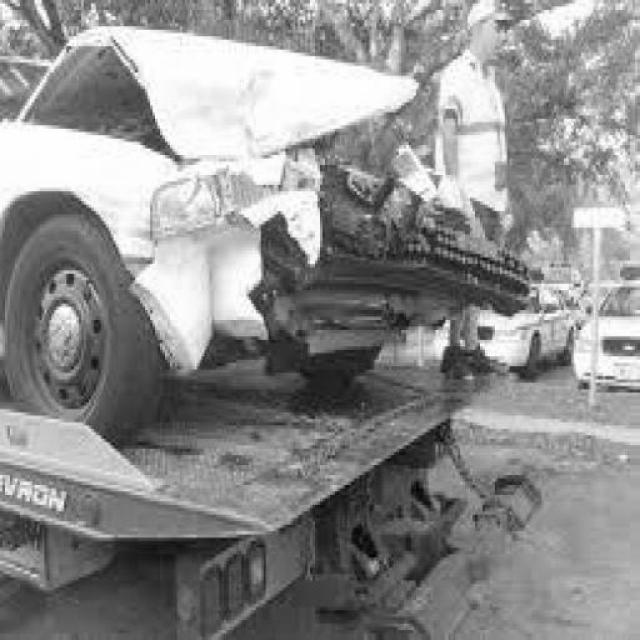crush: (18, 30, 540, 369)
